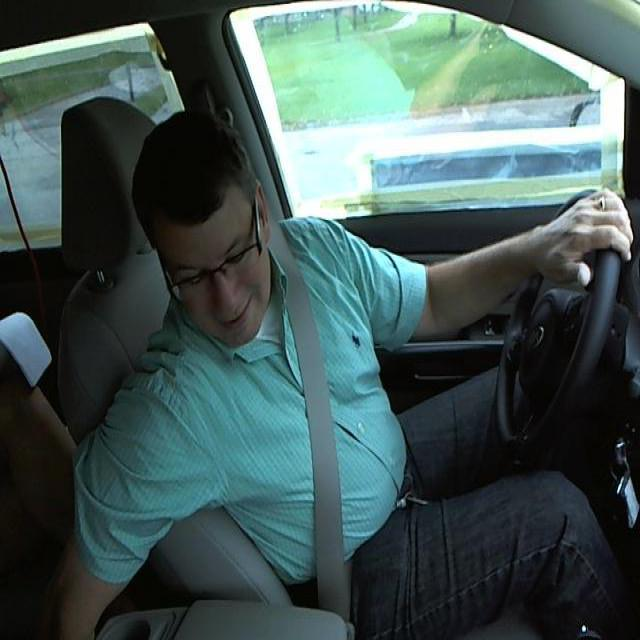seatbelt: (275, 260, 372, 619)
